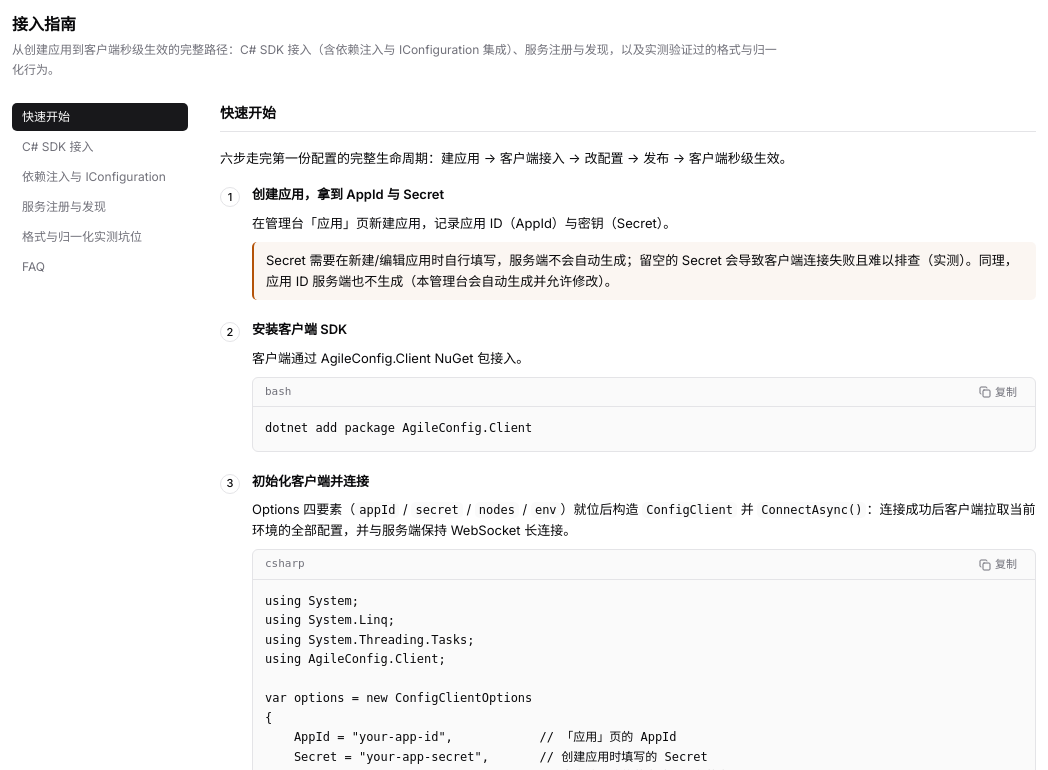
GuidePage（ITER-10） › 代码块按纯文本渲染且一键复制有内联反馈（不发 Toast）
This screenshot has width=1048, height=770.
Expected: the element showing "dotnet add package AgileConfig.Client" is shown, [265,421,532,435]
Step 1. Click the button "复制" in the row of "bash" → coordinates (998, 392), box [973,382,1023,402]
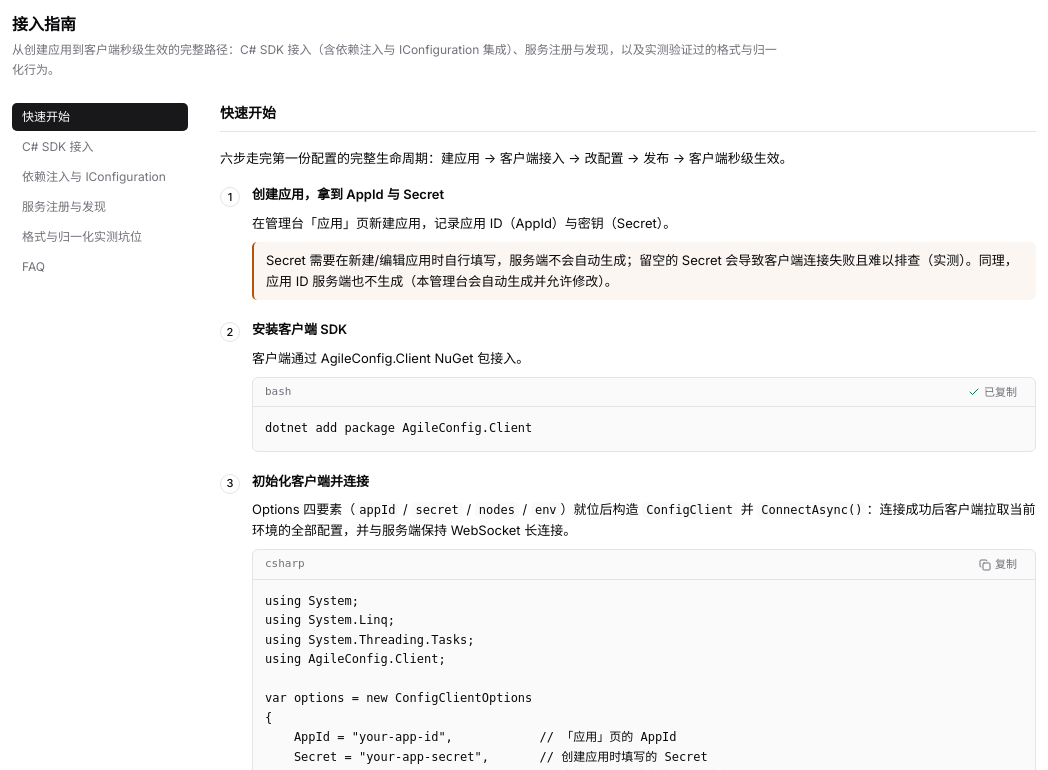
Now the button "已复制" is shown, box [962,382,1023,402]
